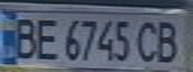4: (97, 16, 118, 62)
5: (112, 17, 136, 63)
6: (60, 16, 84, 62)
7: (78, 16, 100, 62)
B: (6, 14, 42, 61), (151, 17, 184, 64)
C: (133, 17, 163, 63)
E: (30, 15, 60, 62)
